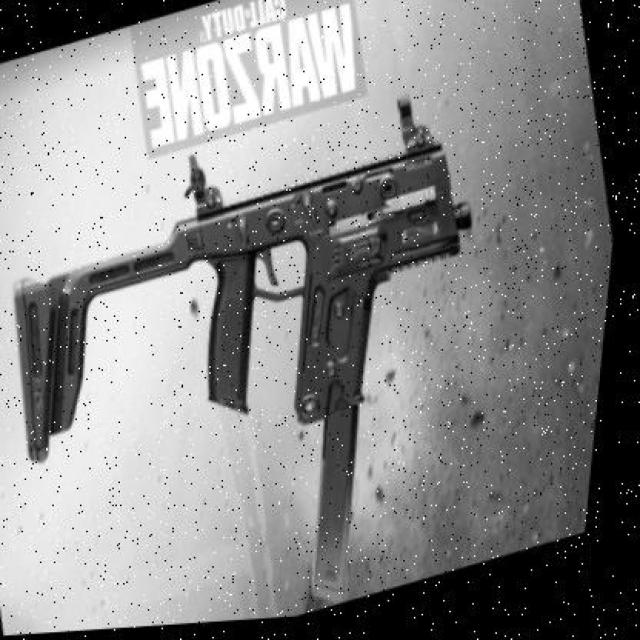weapon: (13, 95, 473, 608)
